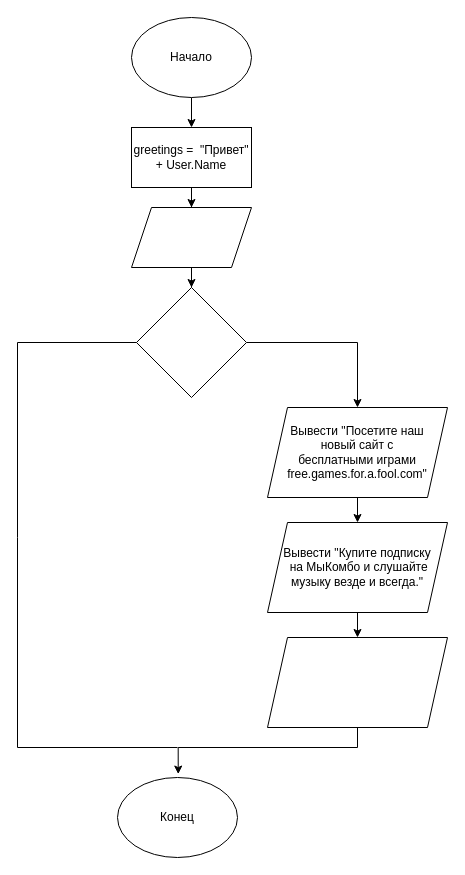
This 465x875 diagram has some shape labels left out. The centre of each missing label's shape, as x and y in pixels:
User.IsPremium == true: point (191, 342)
Вывести "Оформите премиум-подписку на наш сервис,чтобы не видеть рекламу. ": point (357, 682)
Вывести greetings: point (191, 237)
